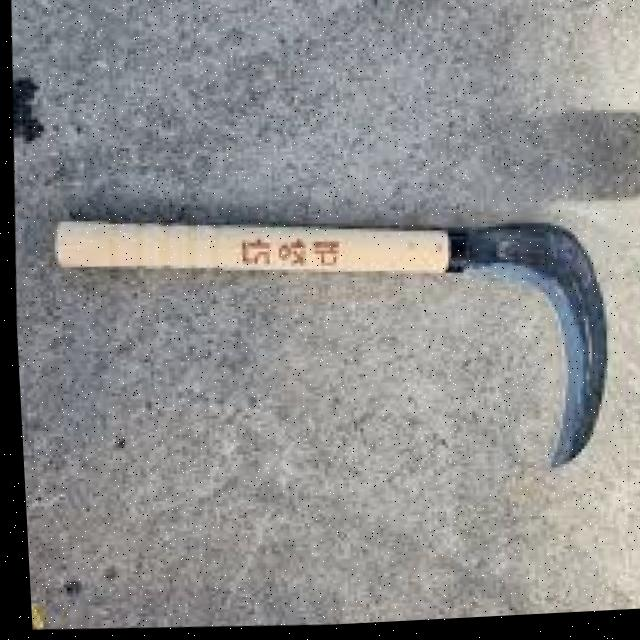sickle: (7, 151, 640, 520)
